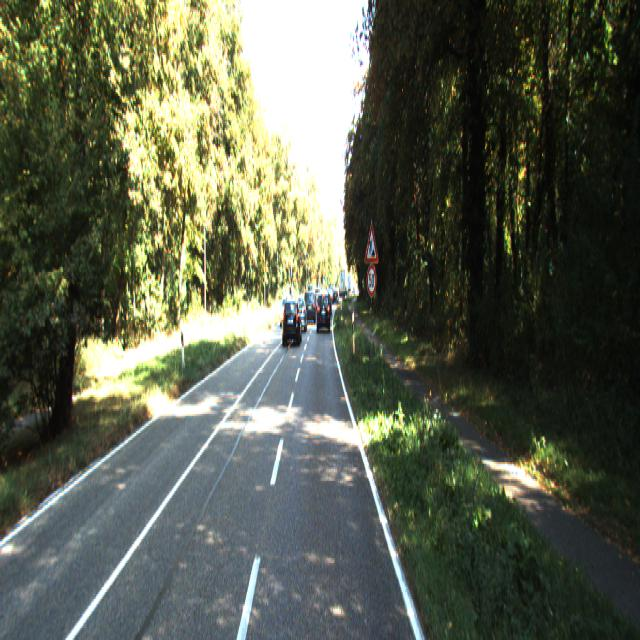Car: (282, 294, 302, 346), (316, 289, 331, 330), (304, 288, 316, 322)
